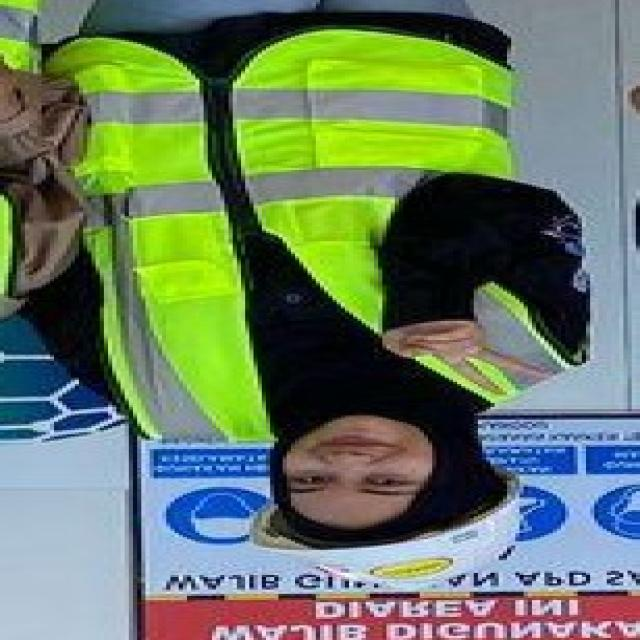safetyhelmet: (246, 448, 547, 600)
